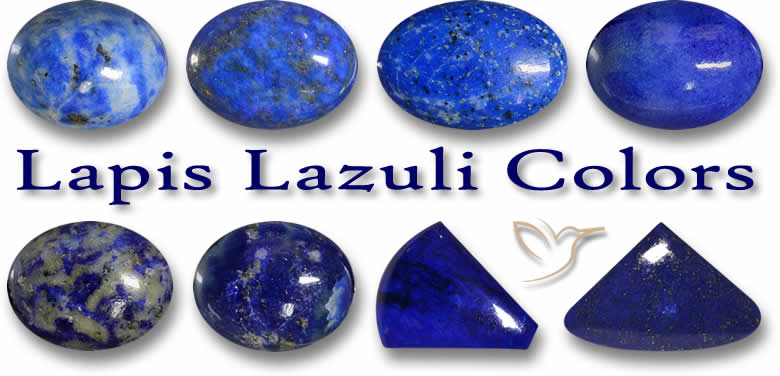Lapis_Lazuli: (563, 220, 764, 354), (0, 221, 174, 352), (368, 222, 542, 348), (191, 221, 357, 352)
